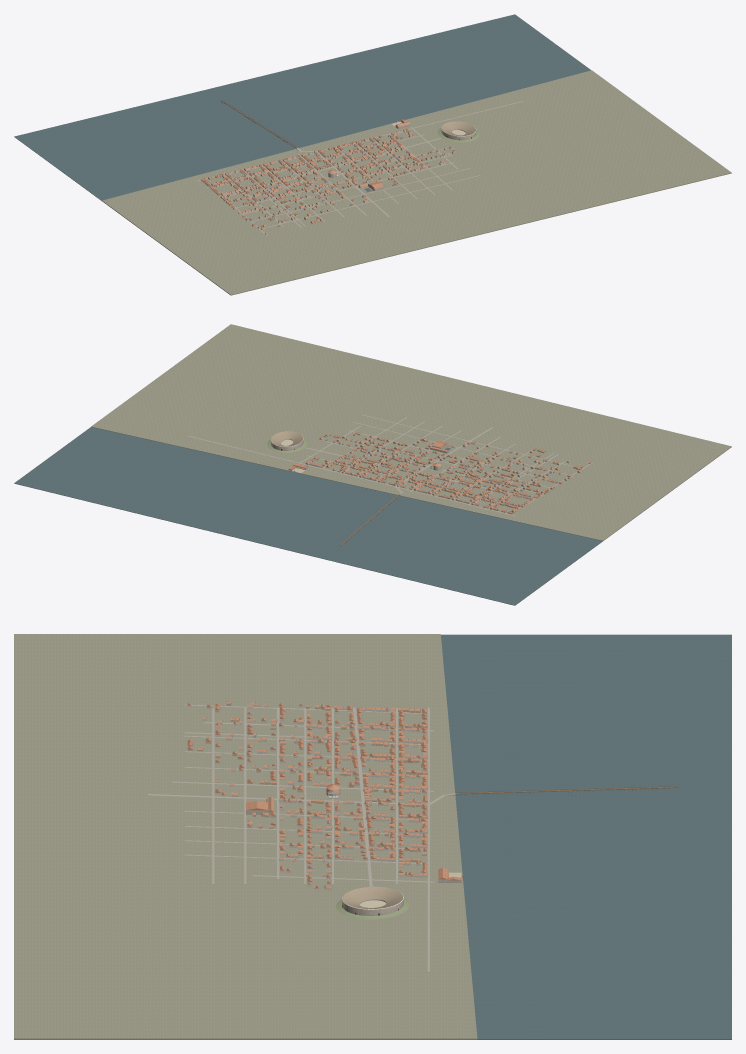
Rendered from caesarodunum_150.glb.
The picture shows the model from 3 angles, top to bottom: view 1: azimuth 30°, elevation 25°; view 2: azimuth 150°, elevation 25°; view 3: azimuth 270°, elevation 25°; orthographic projection. The views are drawn at different scales.
Visible parts, largest first — view 1: caesarodunum_150; view 2: caesarodunum_150; view 3: caesarodunum_150.
Boxes of the visible parts, x1,y1,x2,y2 form: caesarodunum_150: (14,14,731,295); caesarodunum_150: (14,324,731,605); caesarodunum_150: (14,634,731,1039).
Bounding box in the file's own units: 2400 × 32.6 × 1800.
Materials: 14 (12 with a texture image).
